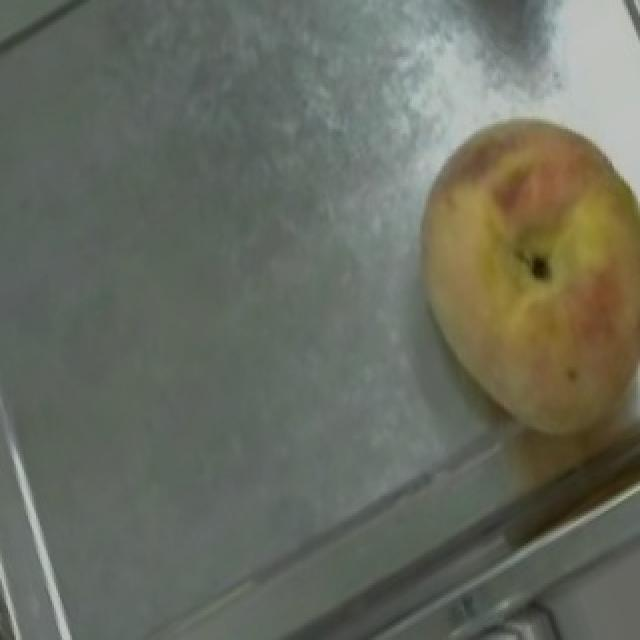Fruit: (372, 84, 638, 474)
